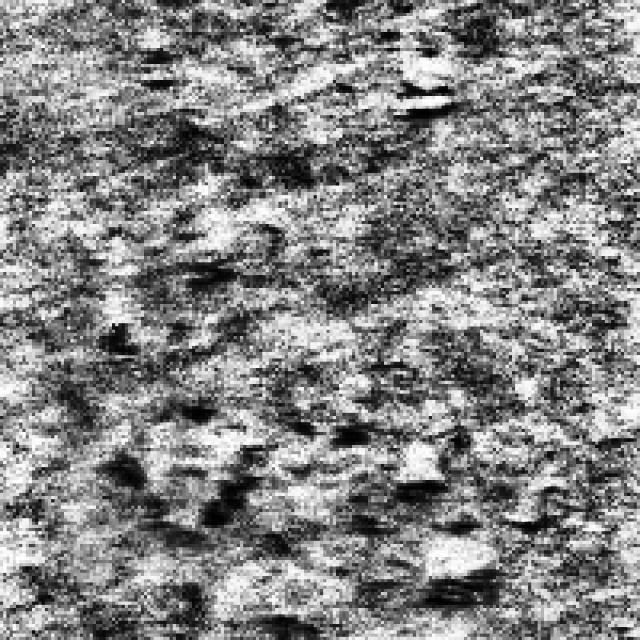Crazing: (109, 410, 554, 598), (371, 35, 464, 131)
